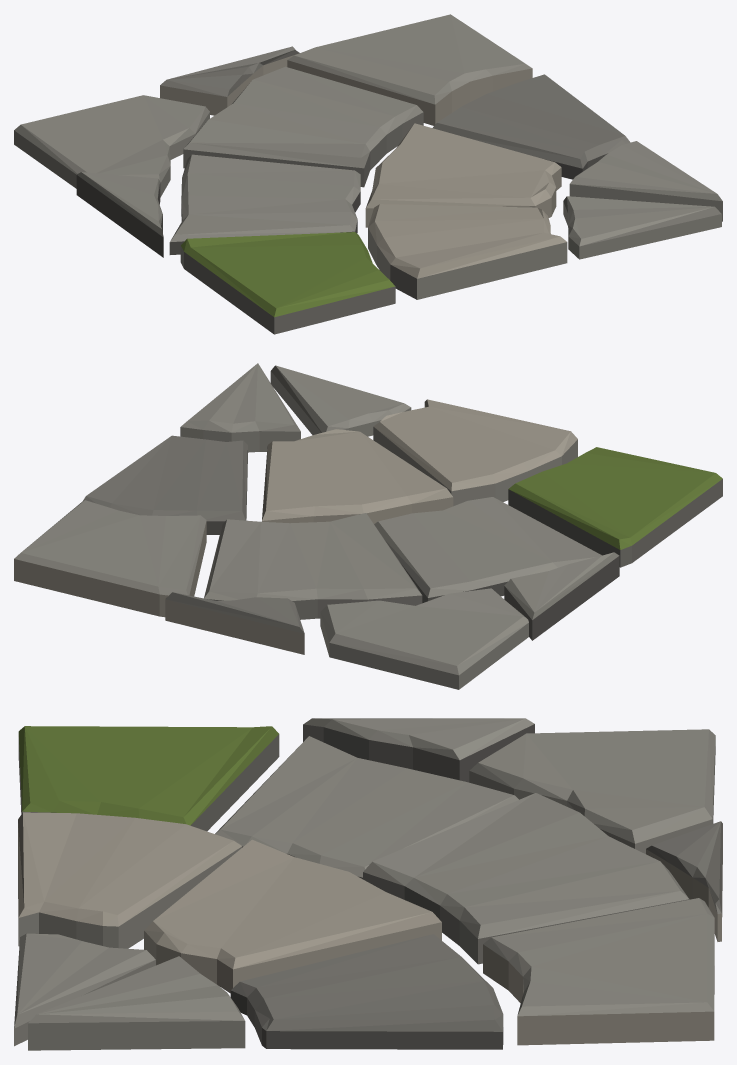
Rendered from StonePath_Corner.fbx.
The picture shows the model from 3 angles, top to bottom: view 1: azimuth 30°, elevation 25°; view 2: azimuth 150°, elevation 25°; view 3: azimuth 270°, elevation 25°; orthographic projection. The views are drawn at different scales.
Visible parts, largest first — view 1: StonePath_Corner; view 2: StonePath_Corner; view 3: StonePath_Corner.
Part boxes in pixels (left/top/right/bottom): StonePath_Corner: left=14, top=14, right=722, bottom=334; StonePath_Corner: left=14, top=363, right=722, bottom=689; StonePath_Corner: left=14, top=718, right=722, bottom=1050.
Bounding box in the file's own units: 1.15 × 0.0696 × 1.15.
1 material, 1 textured.
